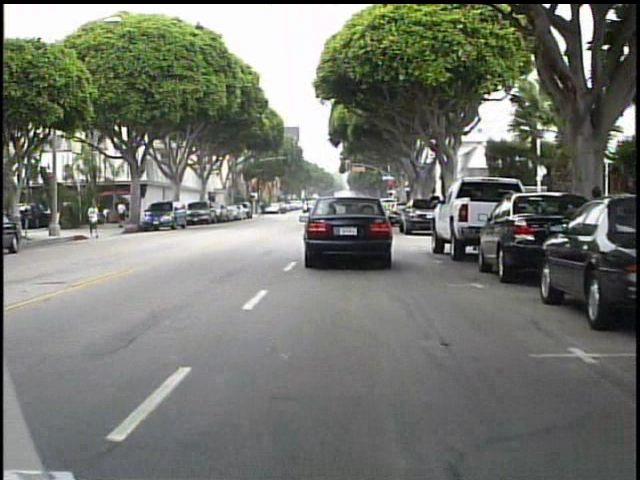person: (81, 197, 100, 239), (117, 197, 130, 228), (253, 199, 267, 221)
